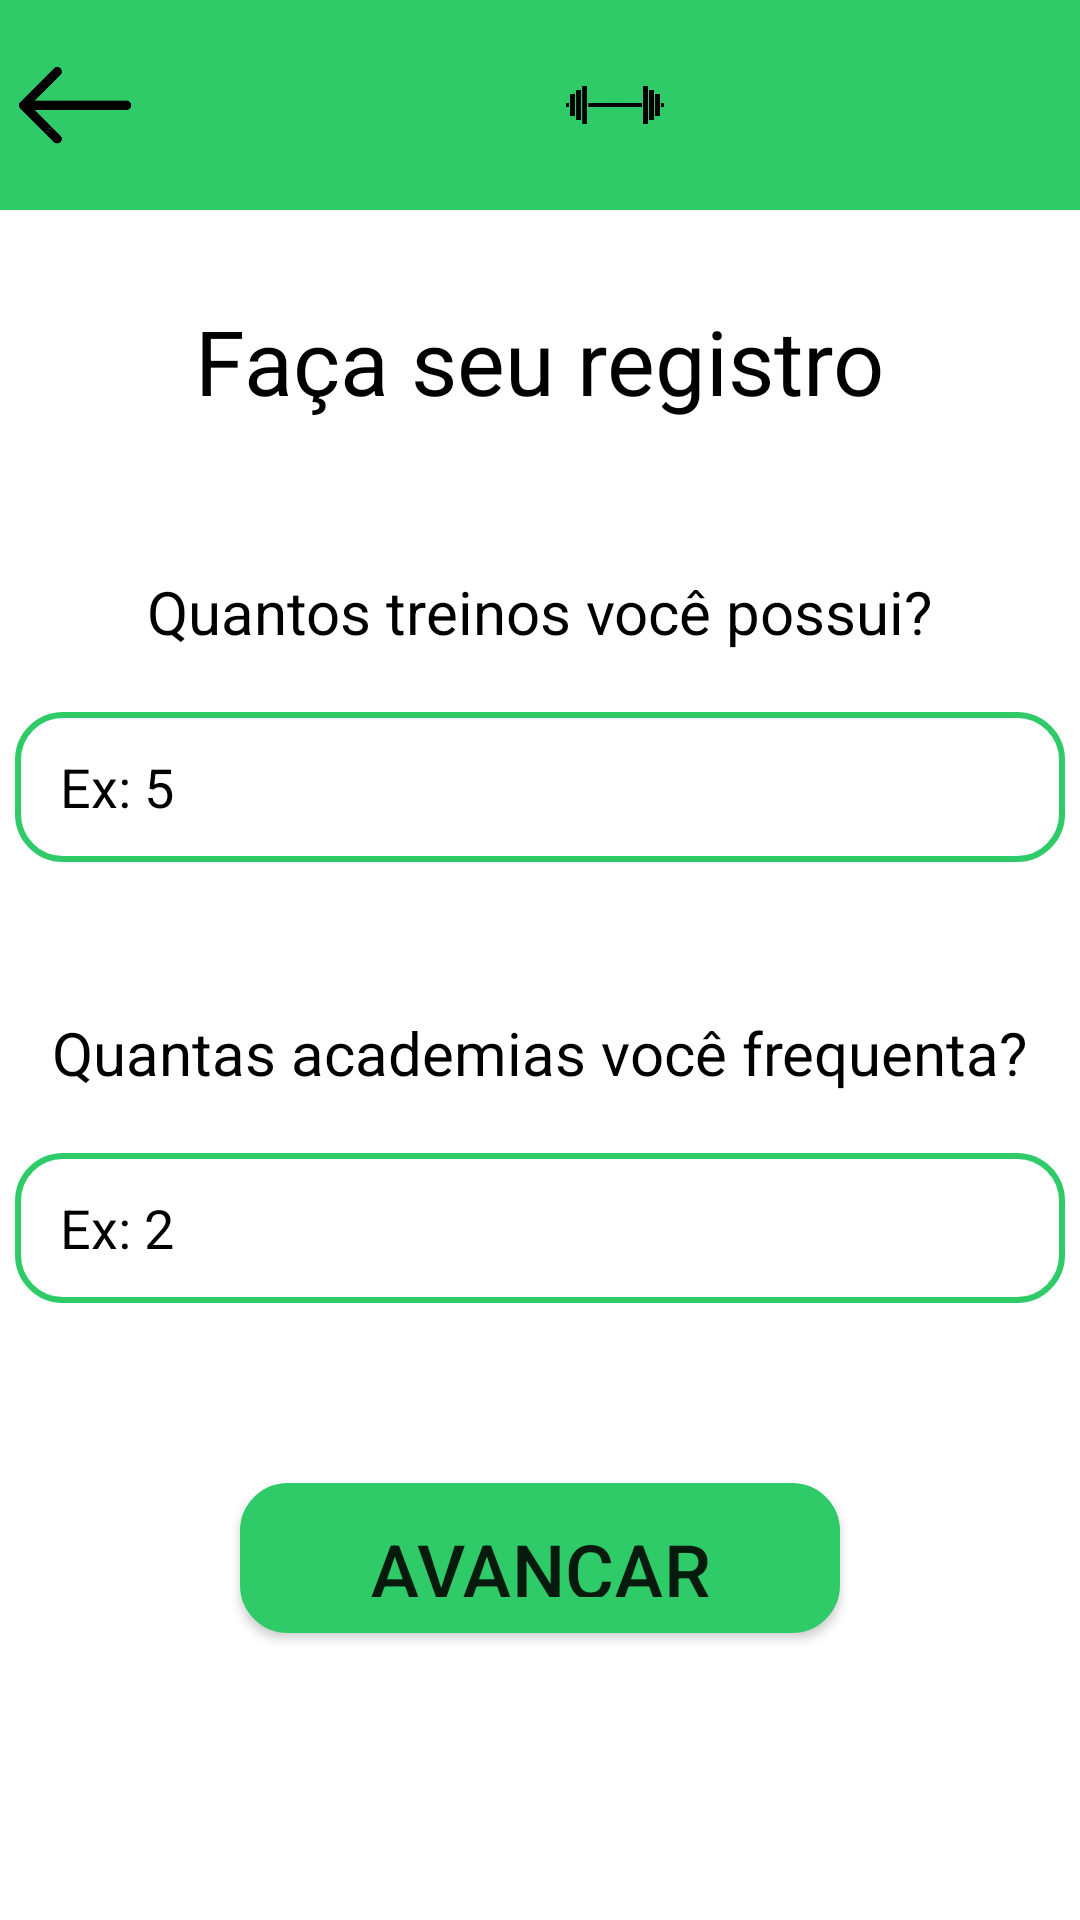

Locate icon controls on the screen. Image size 1080px×1920px, boxes as (x1, y1, x2, y2).
voltar: (19, 67, 131, 144)
